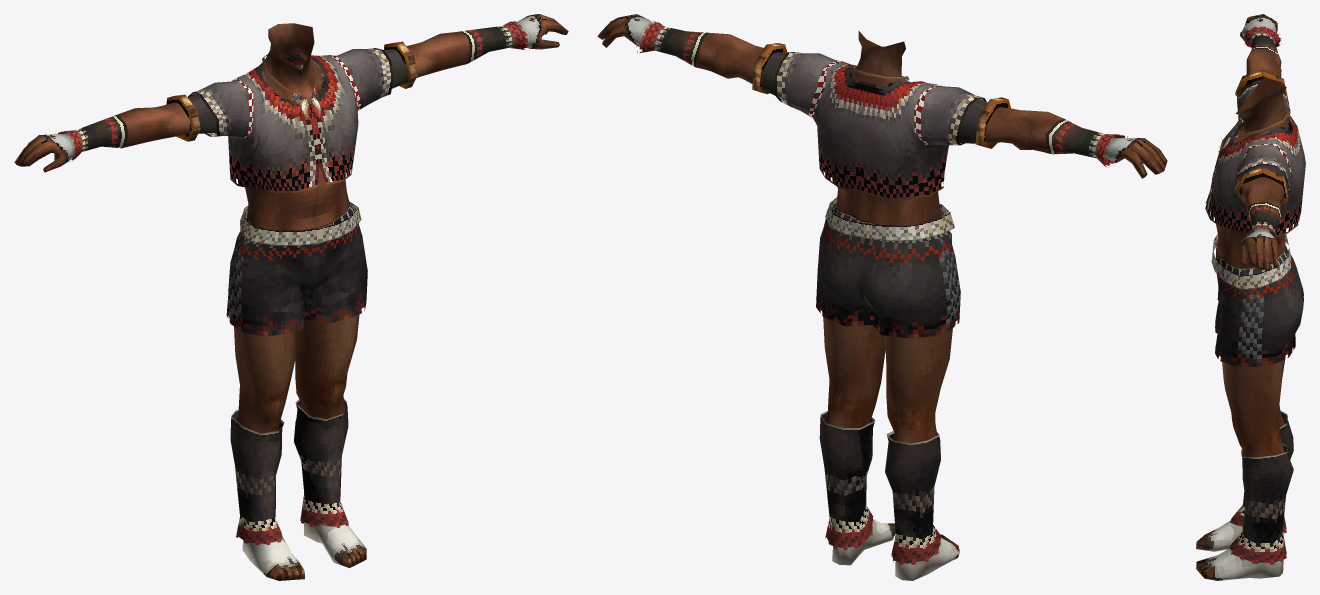
The model's file is body_04.obj.
3 views of the same model, side by side, from view 1: azimuth 30°, elevation 25°; view 2: azimuth 150°, elevation 25°; view 3: azimuth 270°, elevation 25° (orthographic). The views are drawn at different scales.
Visible parts, largest first — view 1: editpl_m-0000-5, editpl_m-0000-4, editpl_m-0000-3; view 2: editpl_m-0000-5, editpl_m-0000-4, editpl_m-0000-3; view 3: editpl_m-0000-5, editpl_m-0000-4, editpl_m-0000-3.
Boxes of the visible parts, box(x1,y1,x2,y2) form: editpl_m-0000-5: box(226, 201, 367, 580); editpl_m-0000-4: box(187, 23, 408, 230); editpl_m-0000-3: box(14, 14, 568, 172); editpl_m-0000-5: box(816, 197, 960, 580); editpl_m-0000-4: box(760, 31, 987, 226); editpl_m-0000-3: box(597, 14, 1167, 178); editpl_m-0000-5: box(1196, 234, 1303, 580); editpl_m-0000-4: box(1205, 77, 1305, 268); editpl_m-0000-3: box(1235, 14, 1288, 269).
Bounding box in the file's own units: 177 × 159 × 33.49.
3 materials, 3 textured.
